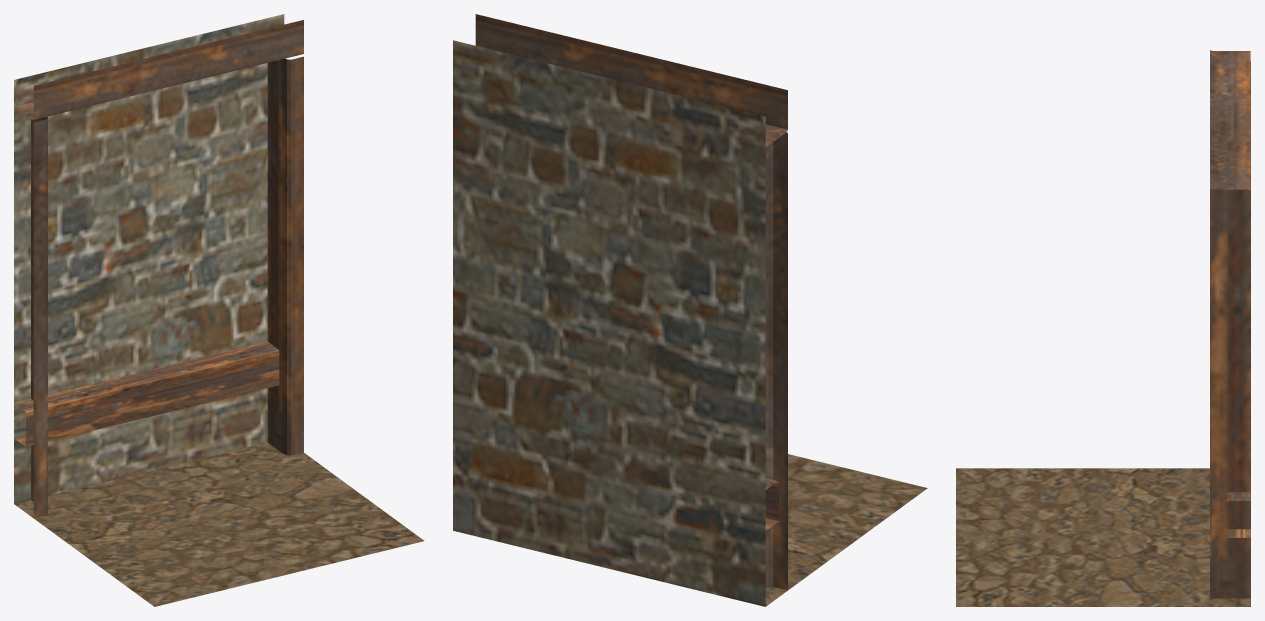
File: structure-wall-straight.fbx
The picture shows the model from 3 angles, left to right: view 1: azimuth 30°, elevation 25°; view 2: azimuth 150°, elevation 25°; view 3: azimuth 270°, elevation 25°; orthographic projection. The views are drawn at different scales.
Parts seen in each view (by area): view 1: wall-straight; view 2: wall-straight; view 3: wall-straight.
Boxes of the visible parts, x1,y1,x2,y2 form: wall-straight: (14,14,424,606); wall-straight: (453,14,927,606); wall-straight: (956,50,1250,606).
Bounding box in the file's own units: 200 × 306 × 180.
